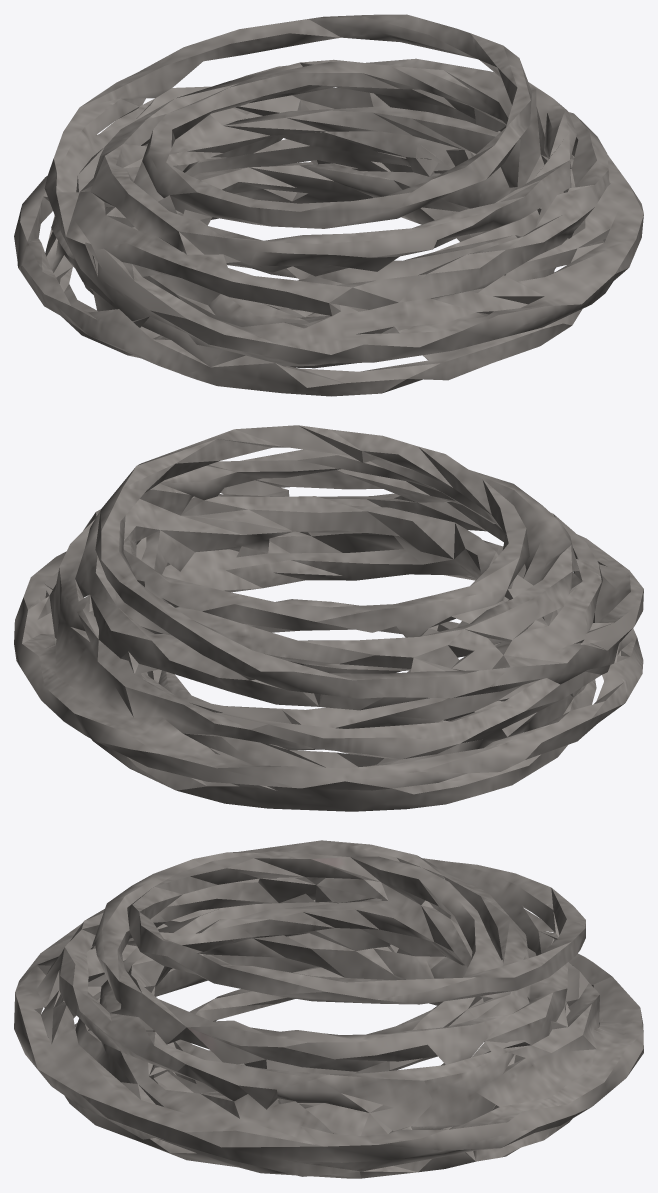
File: rope.glb
3 renders of one model, top to bottom at view 1: azimuth 30°, elevation 25°; view 2: azimuth 150°, elevation 25°; view 3: azimuth 270°, elevation 25°, orthographic.
Visible parts, largest first — view 1: rope; view 2: rope; view 3: rope.
Boxes of the visible parts, left/top/right/bottom form: rope: left=14, top=14, right=643, bottom=396; rope: left=14, top=425, right=643, bottom=811; rope: left=14, top=840, right=643, bottom=1178.
Size of the model in its own units: 0.8164 by 0.28 by 0.8226.
1 material, 1 textured.
